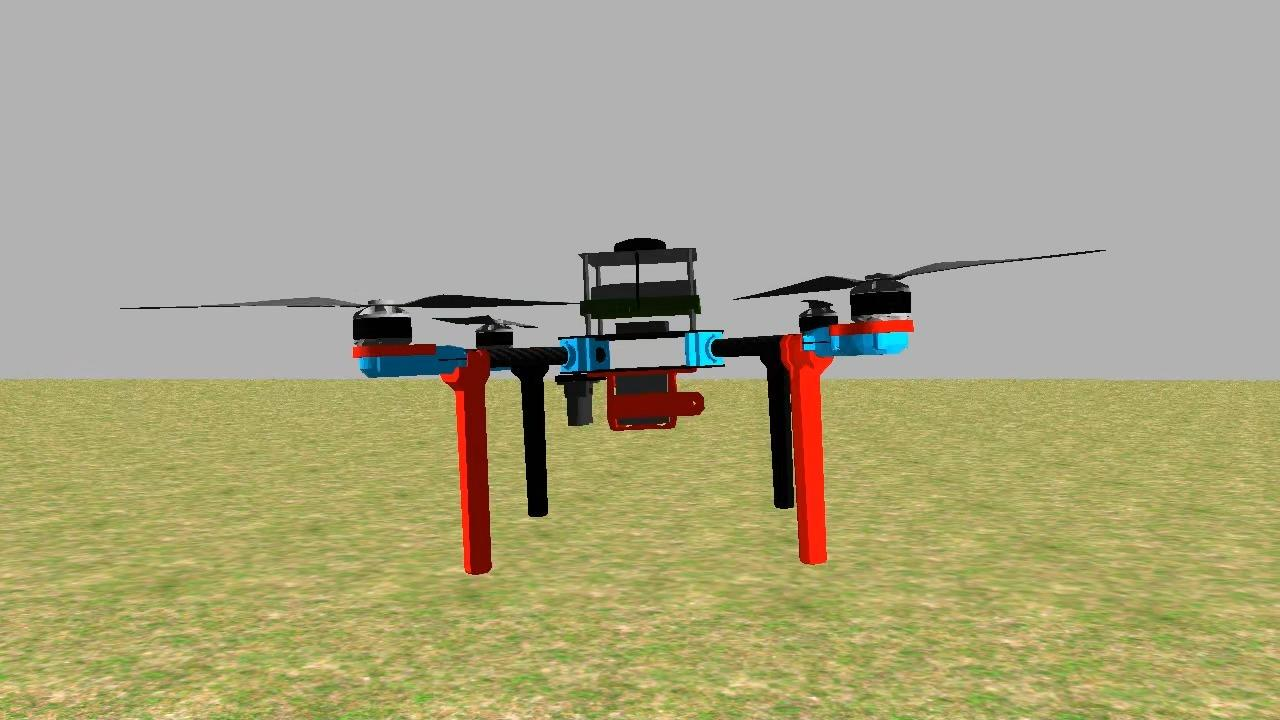UAV: (343, 224, 922, 582)
